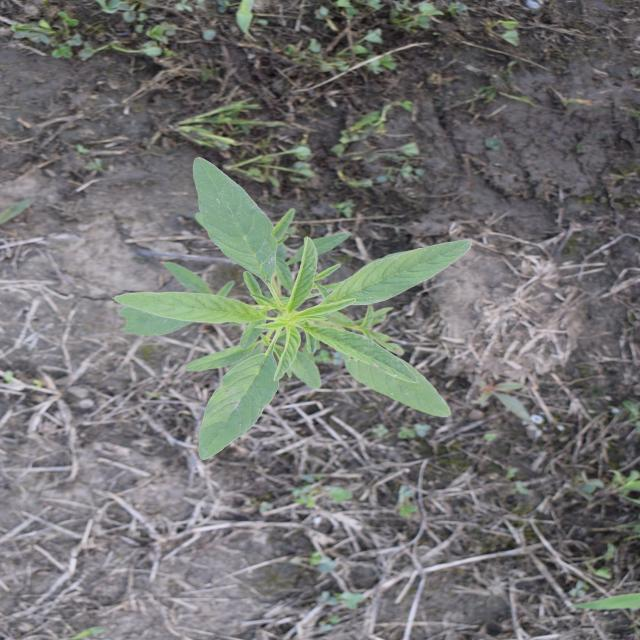Waterhemp: (110, 153, 476, 462)
